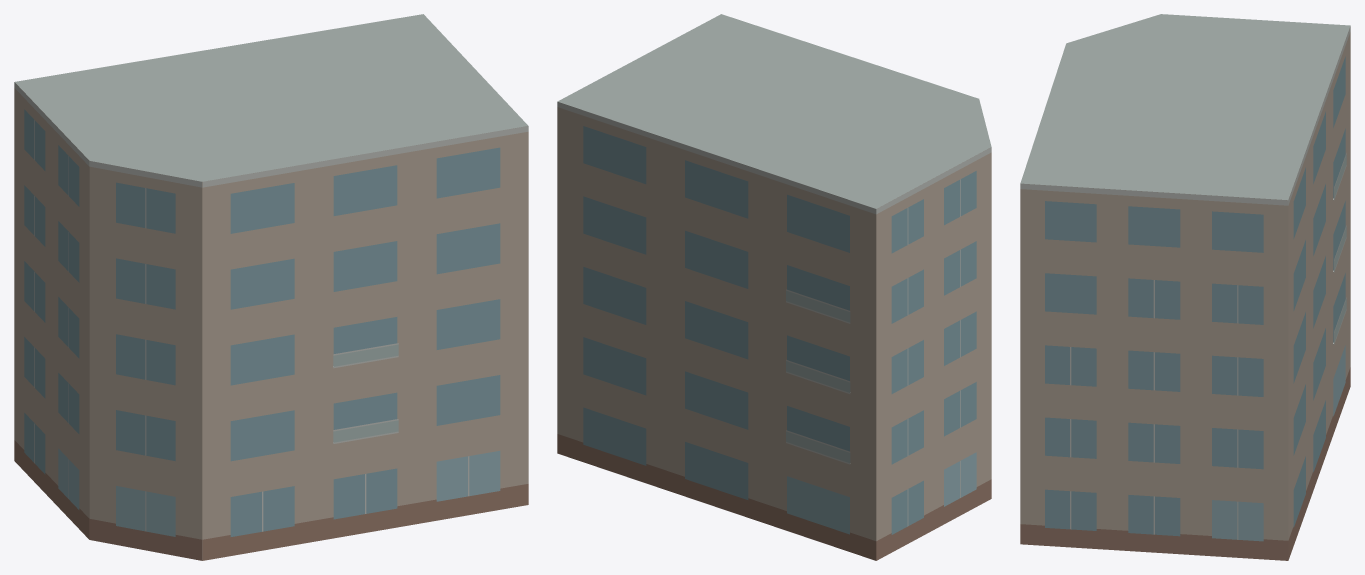
File: survey-upis-32852623.glb
3 views of the same model, side by side, from view 1: azimuth 30°, elevation 25°; view 2: azimuth 150°, elevation 25°; view 3: azimuth 270°, elevation 25° (orthographic). The views are drawn at different scales.
Visible parts, largest first — view 1: survey-upis-32852623.tmp; view 2: survey-upis-32852623.tmp; view 3: survey-upis-32852623.tmp.
Boxes of the visible parts, x1=… form: survey-upis-32852623.tmp: x1=14, y1=14, x2=528, y2=560; survey-upis-32852623.tmp: x1=557, y1=14, x2=991, y2=560; survey-upis-32852623.tmp: x1=1020, y1=14, x2=1350, y2=560.
Size of the model in its own units: 17.55 by 15.85 by 13.17.
